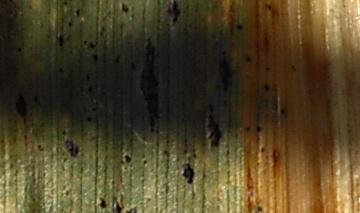tarspot: (142, 38, 161, 133), (218, 50, 233, 93), (205, 115, 222, 146), (15, 93, 29, 123), (167, 1, 181, 23), (182, 163, 195, 184), (64, 140, 79, 158), (56, 33, 67, 47), (115, 198, 124, 213), (207, 103, 216, 115), (98, 197, 107, 209), (121, 2, 129, 14), (130, 60, 138, 71), (245, 54, 253, 65), (113, 54, 122, 63), (86, 83, 94, 93), (236, 23, 244, 33), (262, 83, 270, 92), (258, 145, 266, 154), (36, 144, 44, 152), (279, 107, 286, 116), (92, 54, 99, 62), (125, 155, 132, 163), (245, 124, 252, 132), (257, 205, 265, 212), (162, 148, 169, 156), (75, 8, 81, 17), (32, 95, 38, 104), (86, 73, 91, 83), (67, 21, 74, 28), (141, 158, 148, 165), (88, 43, 96, 49), (17, 45, 23, 53), (62, 1, 69, 7), (86, 116, 93, 122), (256, 126, 262, 133), (82, 39, 88, 45), (184, 148, 189, 155), (58, 68, 64, 73), (62, 130, 67, 136), (193, 153, 198, 159), (100, 26, 106, 31), (91, 107, 97, 111)
